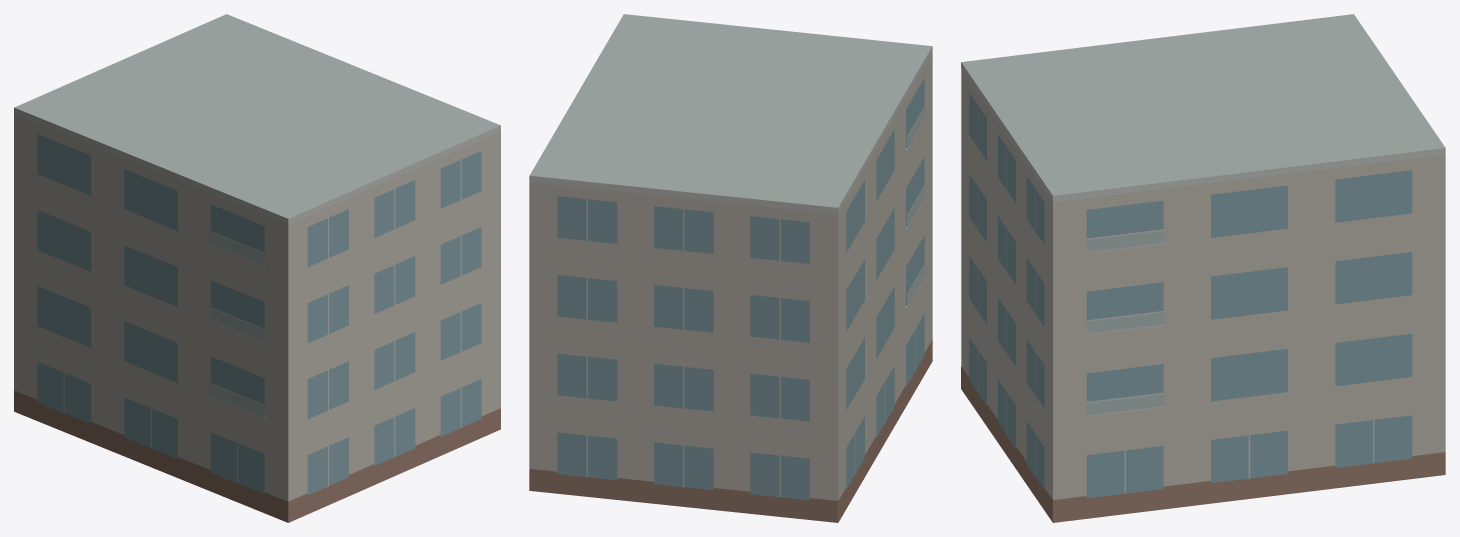
Rendered from residential-6a87dfe6-a20e-4959-ad5c-88507ab2c668.glb.
The picture shows the model from 3 angles, left to right: view 1: azimuth 30°, elevation 25°; view 2: azimuth 150°, elevation 25°; view 3: azimuth 270°, elevation 25°; orthographic projection. The views are drawn at different scales.
Parts seen in each view (by area): view 1: residential-6a87dfe6-a20e-4959-ad5c-88507ab2c668.tmp; view 2: residential-6a87dfe6-a20e-4959-ad5c-88507ab2c668.tmp; view 3: residential-6a87dfe6-a20e-4959-ad5c-88507ab2c668.tmp.
Part boxes in pixels (box(x1,y1,x2,y2)): residential-6a87dfe6-a20e-4959-ad5c-88507ab2c668.tmp: box(14, 14, 500, 522); residential-6a87dfe6-a20e-4959-ad5c-88507ab2c668.tmp: box(529, 14, 932, 522); residential-6a87dfe6-a20e-4959-ad5c-88507ab2c668.tmp: box(961, 14, 1445, 522).
Bounding box in the file's own units: 14.57 × 12.2 × 16.4.
